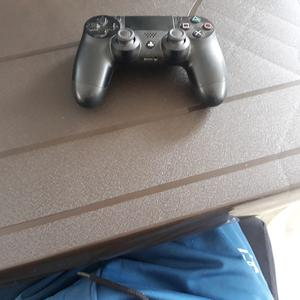controller: (73, 15, 227, 108)
